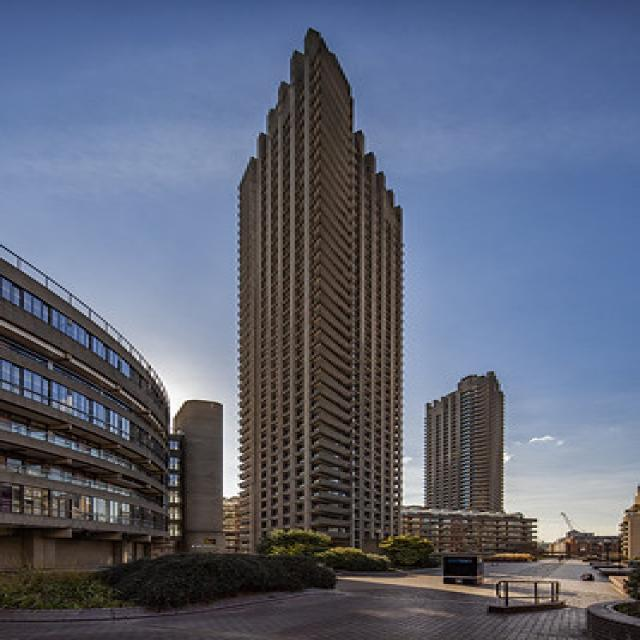Normal_building: (224, 19, 406, 563), (422, 364, 510, 564)
